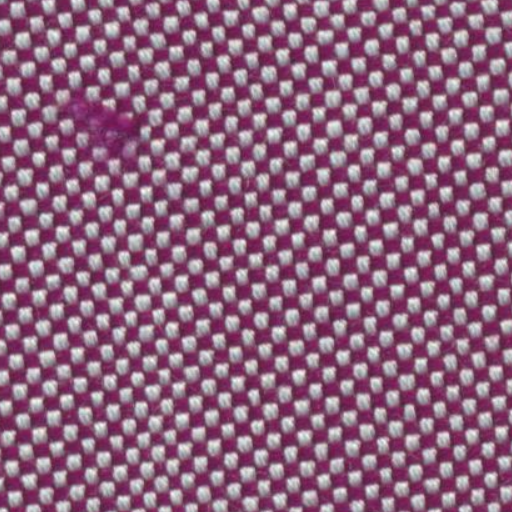DuanSha: (38, 72, 160, 166)
